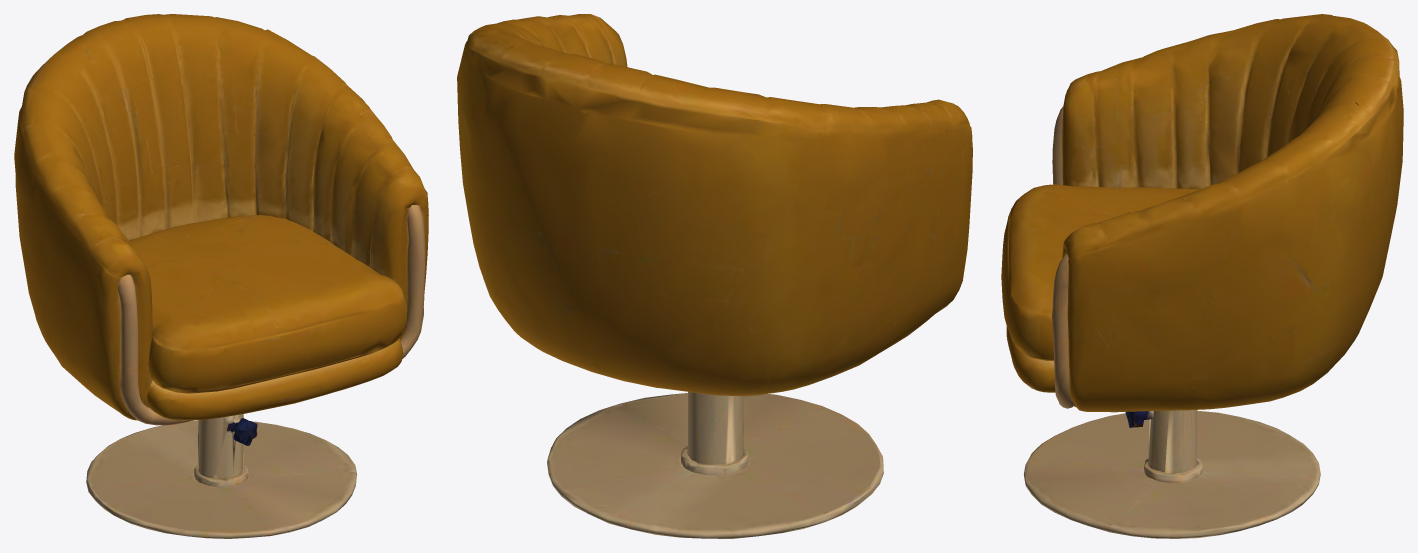
The model's file is armchair_yellow.glb.
3 renders of one model, left to right at view 1: azimuth 30°, elevation 25°; view 2: azimuth 150°, elevation 25°; view 3: azimuth 270°, elevation 25°, orthographic. The views are drawn at different scales.
Parts seen in each view (by area): view 1: prop; view 2: prop; view 3: prop.
Boxes of the visible parts, box(x1,y1,x2,y2) form: prop: box(14, 14, 428, 538); prop: box(457, 14, 972, 538); prop: box(1001, 14, 1403, 538).
Size of the model in its own units: 0.8196 by 0.92 by 0.7907.
1 material, 1 textured.
